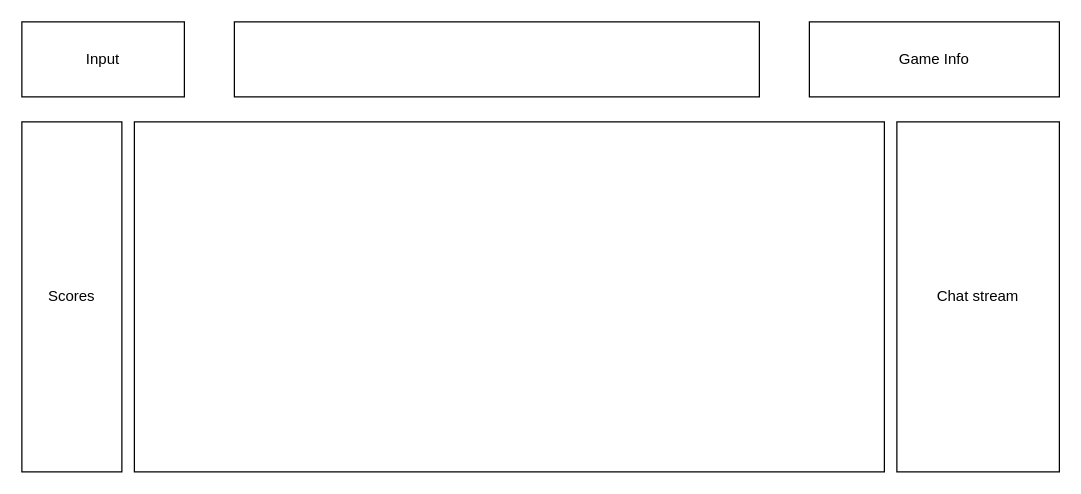
Image size: 1081x494. Some labels were removed from this diagram. Here are the shapes that lost their labels. From the top down, the box of each, then its label:
(233, 21, 759, 97): Rules
(133, 121, 884, 472): Tabletop
